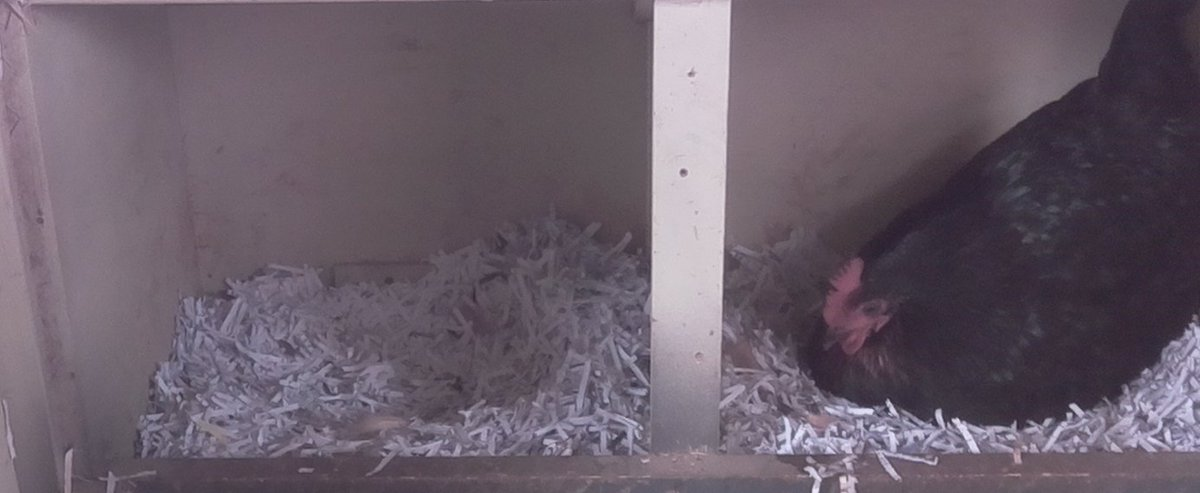hen: (792, 12, 1200, 436)
